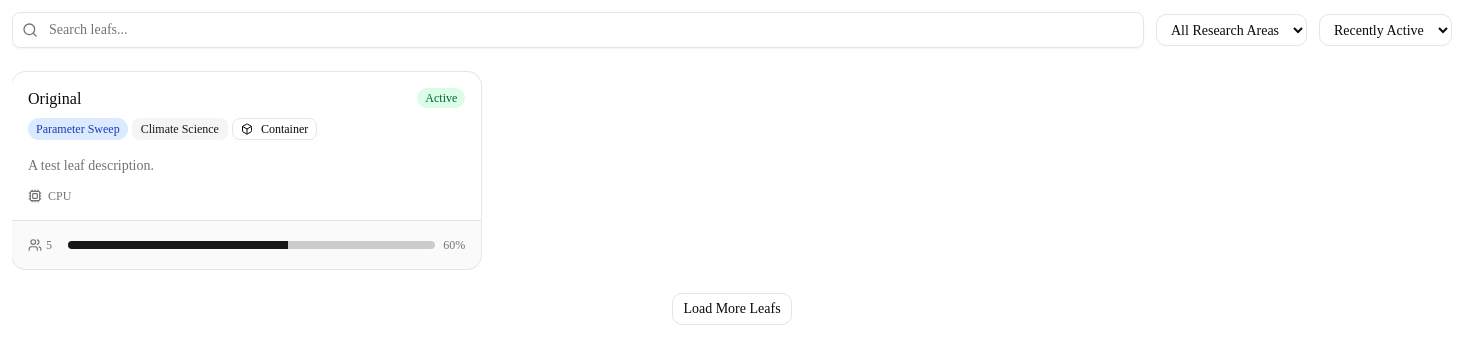
Test case: ProjectBrowser › appends loaded leafs to existing list after Load More
Step 1. Click the button with test id "load-more-button" → (732, 309), box [672, 293, 792, 325]
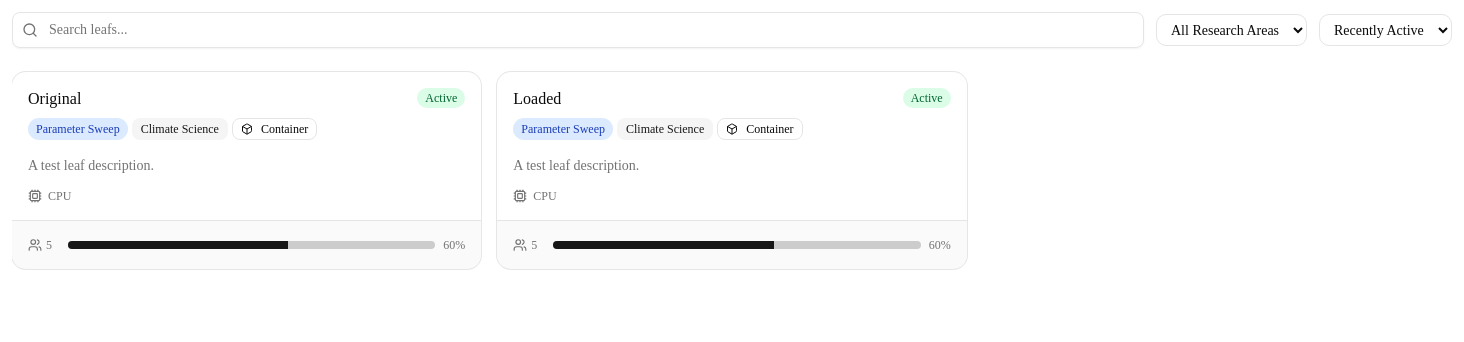
Check: the text "Original" is shown, box [28, 88, 81, 110]
Check: the text "Loaded" is shown, box [513, 88, 561, 110]
